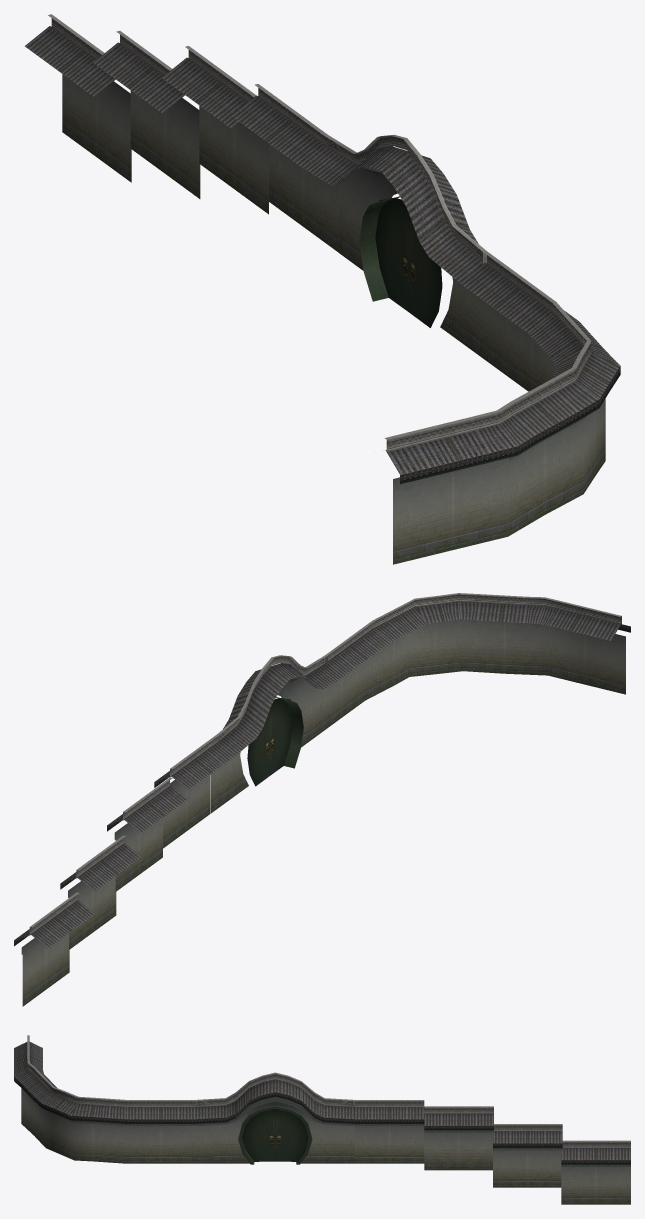
The model's file is yw_yanziwu_qiangmen01.FBX.
The picture shows the model from 3 angles, top to bottom: view 1: azimuth 30°, elevation 25°; view 2: azimuth 150°, elevation 25°; view 3: azimuth 270°, elevation 25°; orthographic projection. The views are drawn at different scales.
Parts seen in each view (by area): view 1: yw_yanziwu_qiangmen01; view 2: yw_yanziwu_qiangmen01; view 3: yw_yanziwu_qiangmen01.
Part boxes in pixels (<box>): yw_yanziwu_qiangmen01: <box>25,14,620,564</box>; yw_yanziwu_qiangmen01: <box>14,593,630,1006</box>; yw_yanziwu_qiangmen01: <box>14,1035,630,1204</box>.
Bounding box in the file's own units: 591 × 498 × 2166.
Materials: 1 (1 with a texture image).
